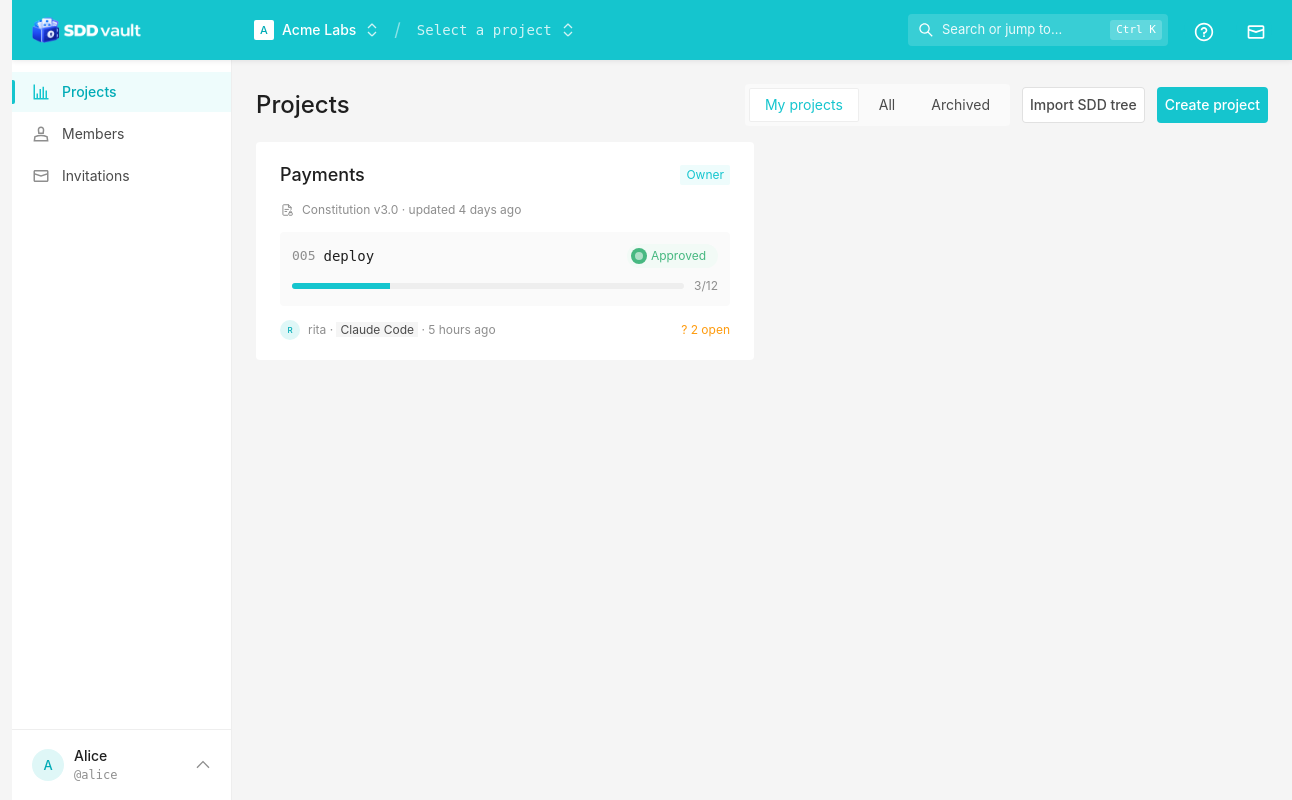
it: My projects lists the projects the caller belongs to, All the unarchived ones, Archived the rest
Expected: the link "Payments" is shown, [256,142,754,360]
Expected: the link "Others" is not shown
Click the tab "All" at [887, 104], box [879,96,895,113]
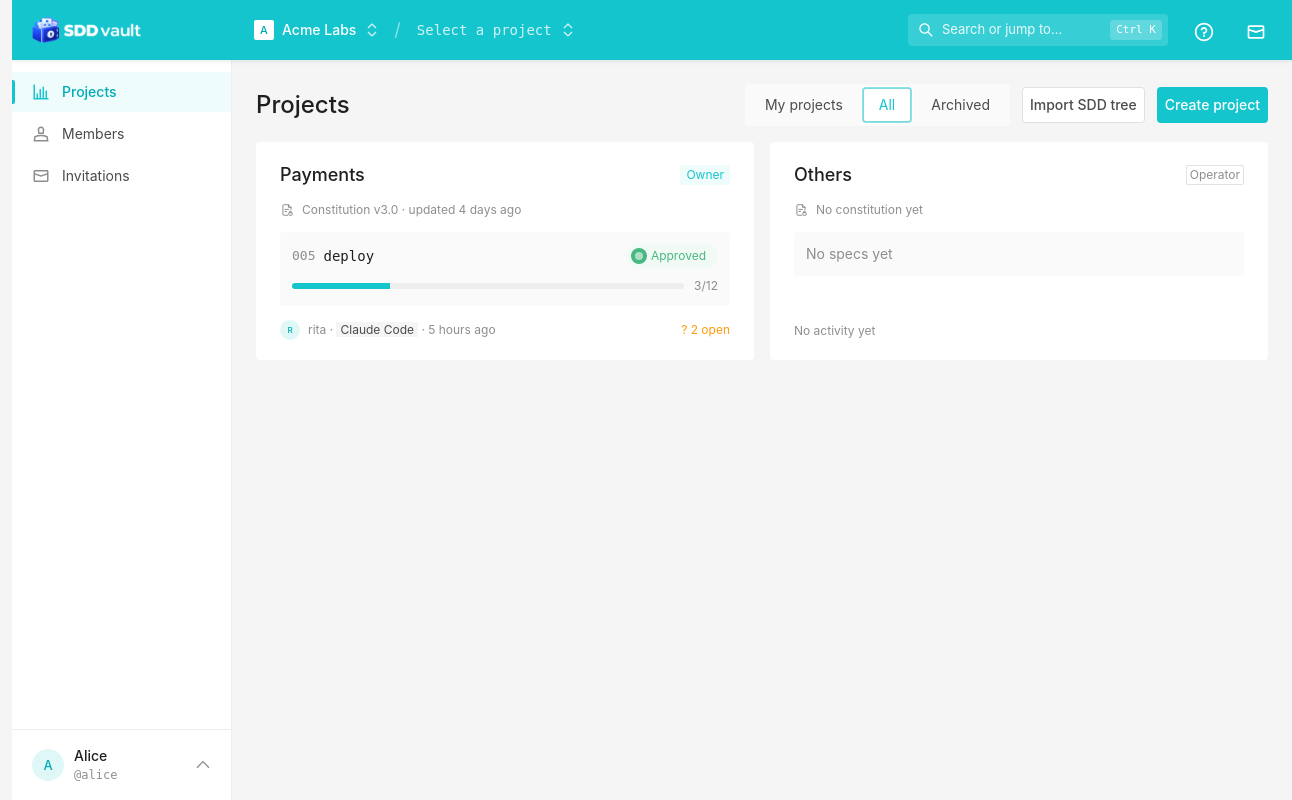
Expected: the link "Payments" is shown, [256,142,754,360]
Result: the link "Others" is shown at [770,142,1268,360]
Click the tab "Archived" at [961, 104], box [931,96,990,113]
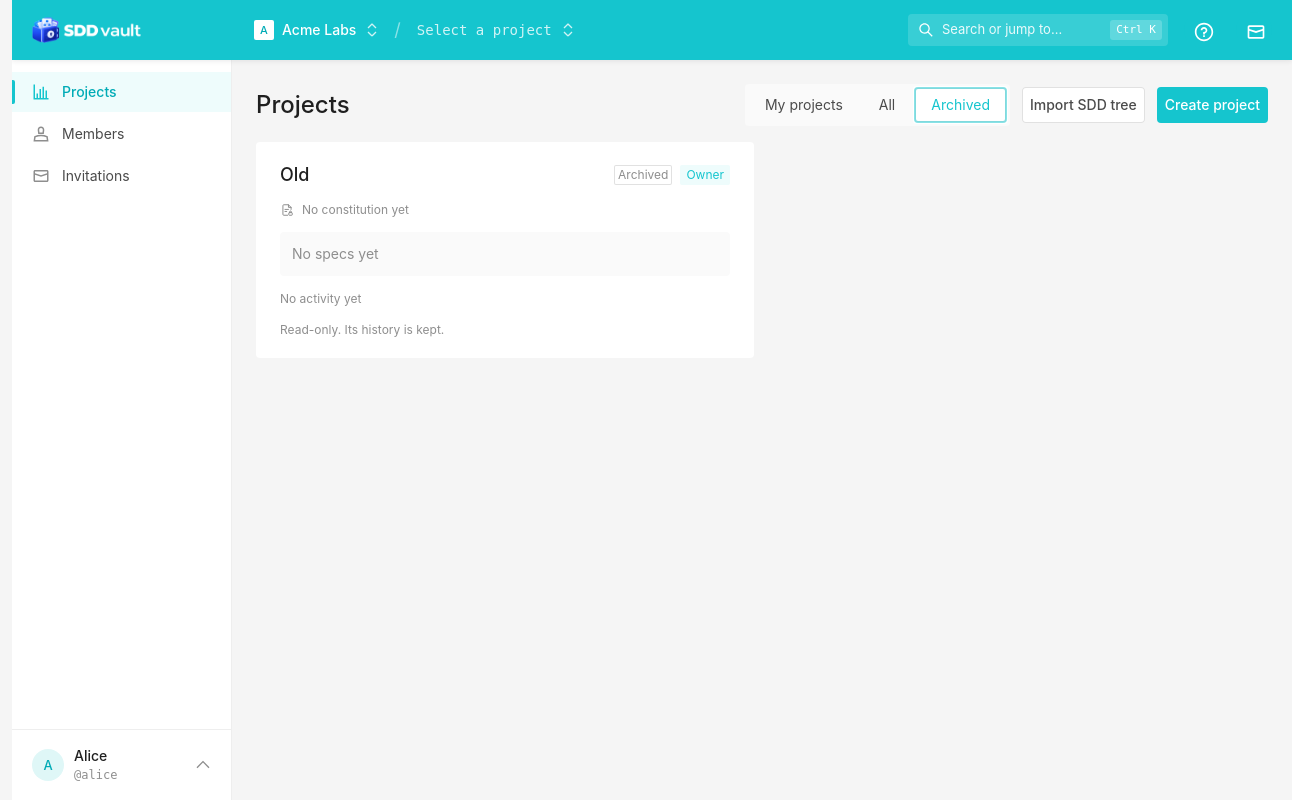
Result: the text "Archived" is shown at [614,165,672,185]
Result: the link "Payments" is gone
